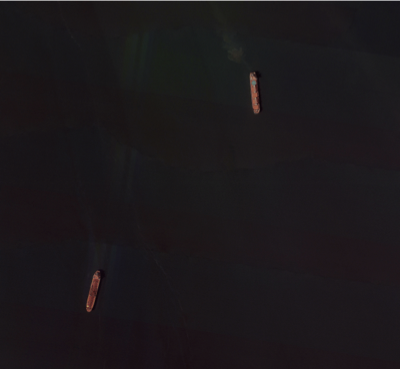boat: (86, 270, 102, 312), (249, 72, 261, 114)
